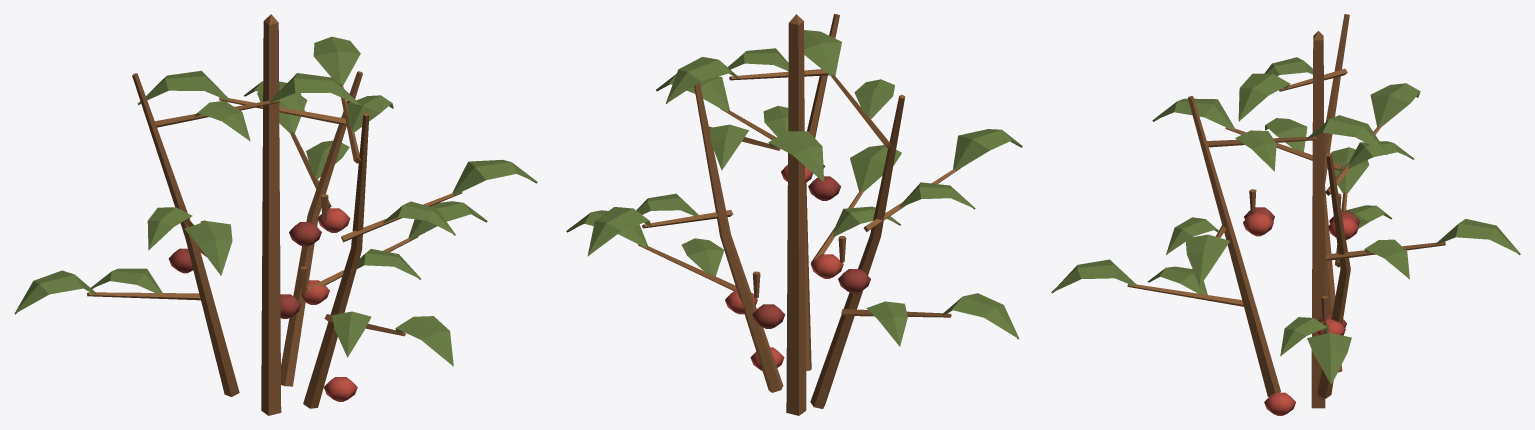
The model's file is crop_tomato_overripe.glb.
3 views of the same model, side by side, from view 1: azimuth 30°, elevation 25°; view 2: azimuth 150°, elevation 25°; view 3: azimuth 270°, elevation 25° (orthographic). The views are drawn at different scales.
Visible parts, largest first — view 1: tomato_cluster_00_fruit_00_calyx_0, tomato_leaf_00_00_leaflet_00, tomato_cluster_00_fruit_00_body, tomato_cluster_00_fruit_01_body; view 2: tomato_cluster_00_fruit_00_calyx_0, tomato_leaf_00_00_leaflet_00, tomato_cluster_00_fruit_01_body, tomato_cluster_00_fruit_00_body; view 3: tomato_leaf_00_00_leaflet_00, tomato_cluster_00_fruit_00_calyx_0, tomato_cluster_00_fruit_00_body.
Boxes of the visible parts, x1,y1,x2,y2 form: tomato_cluster_00_fruit_00_calyx_0: (87,14,462,415); tomato_leaf_00_00_leaflet_00: (14,36,537,366); tomato_cluster_00_fruit_00_body: (199,208,357,401); tomato_cluster_00_fruit_01_body: (168,222,321,318); tomato_cluster_00_fruit_00_calyx_0: (638,14,960,415); tomato_leaf_00_00_leaflet_00: (566,30,1022,346); tomato_cluster_00_fruit_01_body: (752,176,870,328); tomato_cluster_00_fruit_00_body: (725,165,843,370); tomato_leaf_00_00_leaflet_00: (1051,57,1520,384); tomato_cluster_00_fruit_00_calyx_0: (1127,14,1445,408); tomato_cluster_00_fruit_00_body: (1243,213,1358,415).
Size of the model in its own units: 1.32 by 1.08 by 1.23.
